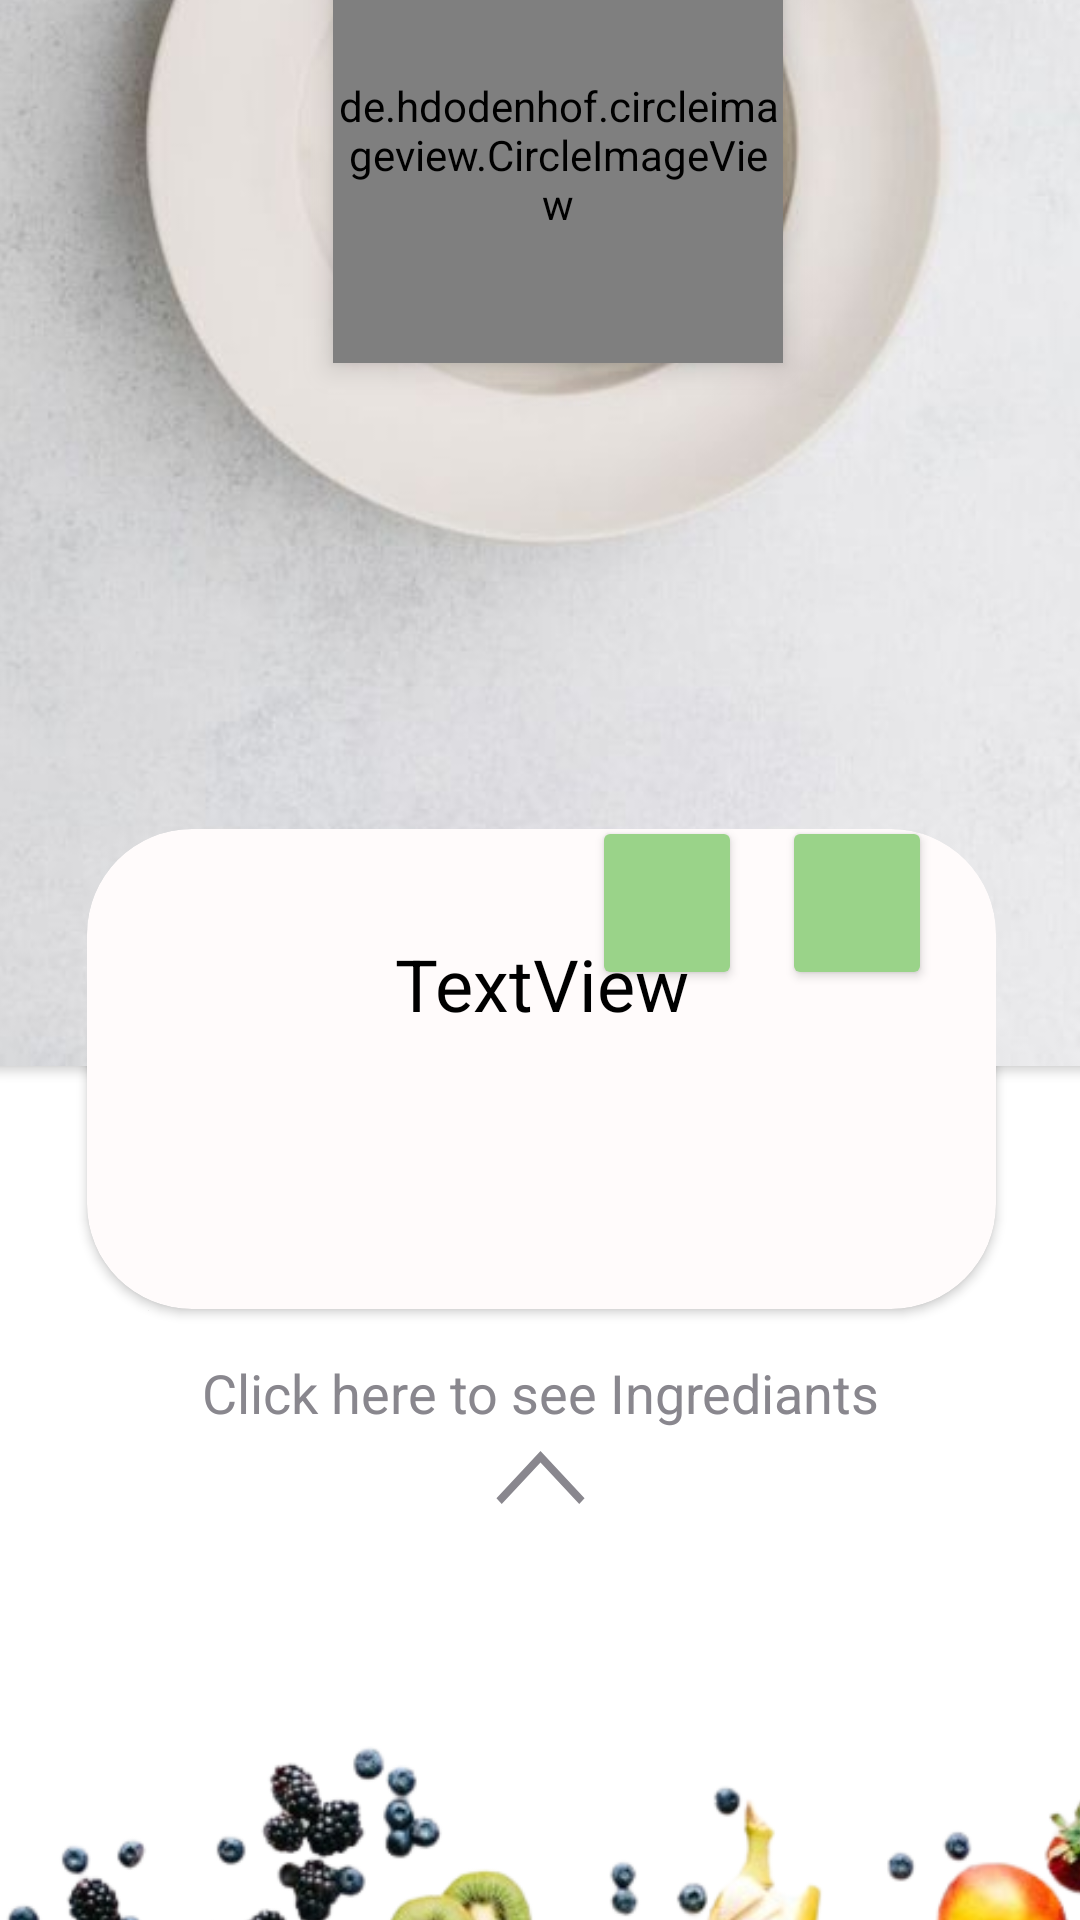

Named icons in this screenshot (1080 x 1920) and their centers, [x,y]:
swapup: [540,1477]
